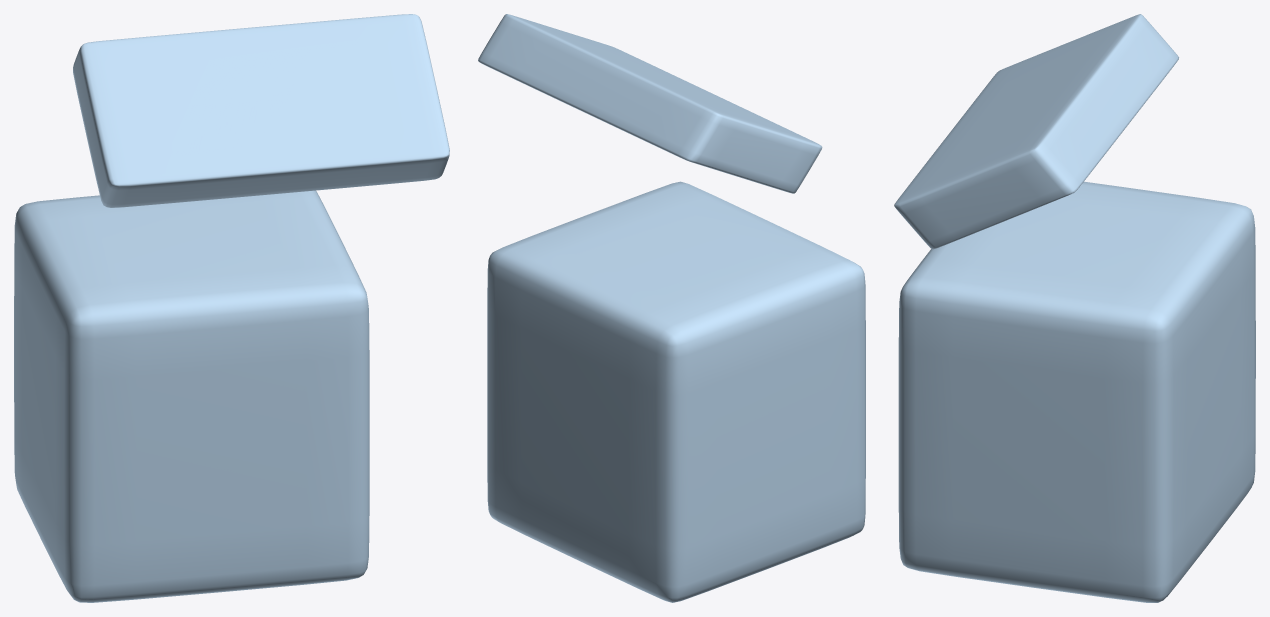
File: PROP_Slide_v2.glb
The picture shows the model from 3 angles, left to right: view 1: azimuth 30°, elevation 25°; view 2: azimuth 150°, elevation 25°; view 3: azimuth 270°, elevation 25°; orthographic projection. The views are drawn at different scales.
Parts seen in each view (by area): view 1: PROP_Slide_v2; view 2: PROP_Slide_v2; view 3: PROP_Slide_v2.
Part boxes in pixels (x1,y1,x2,y2): PROP_Slide_v2: [14, 14, 449, 602]; PROP_Slide_v2: [478, 14, 865, 602]; PROP_Slide_v2: [894, 14, 1255, 602].
Bounding box in the file's own units: 1.4 × 1.73 × 1.17.
